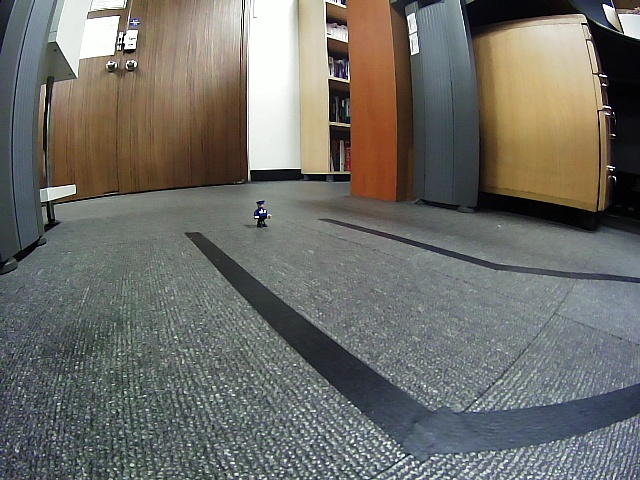person: (254, 200, 271, 227)
